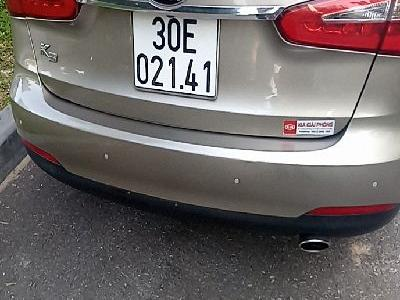car: (130, 9, 222, 102)
